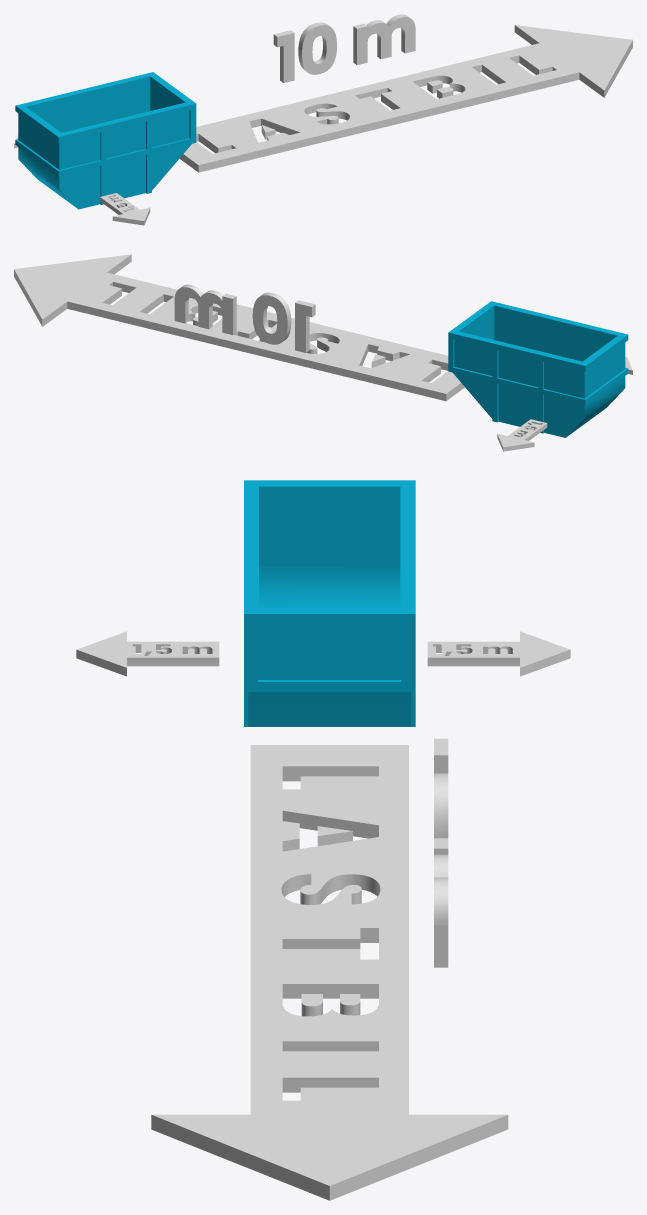
3 views of the same model, one above another, from view 1: azimuth 30°, elevation 25°; view 2: azimuth 150°, elevation 25°; view 3: azimuth 270°, elevation 25° (orthographic). The views are drawn at different scales.
Parts seen in each view (by area): view 1: Plane.029, Cube, Text.4, m, Plane.4, B, S, A, T; view 2: Cube, Plane.029, Text.4, m, Plane.4, A, S; view 3: Plane.029, Cube, Plane.4 (×2), L (×2), m, A, B, S, Text.4, T, I.
Boxes of the visible parts, left/top/right/bottom form: Plane.029: left=179, top=25, right=632, bottom=172; Cube: left=15, top=72, right=196, bottom=209; Text.4: left=273, top=22, right=336, bottom=82; m: left=353, top=14, right=415, bottom=65; Plane.4: left=100, top=193, right=150, bottom=225; B: left=413, top=75, right=465, bottom=98; S: left=304, top=103, right=350, bottom=124; A: left=249, top=118, right=299, bottom=140; T: left=355, top=87, right=399, bottom=109; Cube: left=448, top=301, right=628, bottom=437; Plane.029: left=14, top=254, right=464, bottom=401; Text.4: left=252, top=292, right=315, bottom=352; m: left=174, top=284, right=236, bottom=334; Plane.4: left=497, top=419, right=547, bottom=451; A: left=359, top=344, right=409, bottom=367; S: left=306, top=333, right=339, bottom=353; Plane.029: left=151, top=745, right=508, bottom=1200; Cube: left=244, top=480, right=415, bottom=726; Plane.4 (×2): left=76, top=631, right=570, bottom=676; L (×2): left=282, top=766, right=378, bottom=1092; m: left=434, top=838, right=448, bottom=967; A: left=282, top=810, right=378, bottom=851; B: left=282, top=984, right=378, bottom=1016; S: left=281, top=874, right=380, bottom=904; Text.4: left=434, top=738, right=448, bottom=838; T: left=282, top=928, right=378, bottom=948; I: left=282, top=1041, right=378, bottom=1051.
Bounding box in the file's own units: 1413 × 180 × 510.
